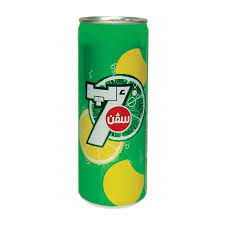can: (73, 10, 154, 210)
